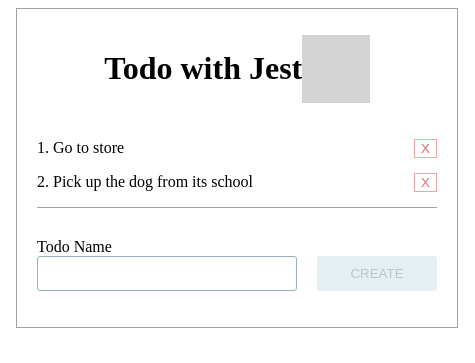
Test: ToDoApp component › Show alert
What coordinates should you click on to do the following:
click the button with class "disabled"
I would click on:
 (377, 273)
Its box is [317,256,437,291].
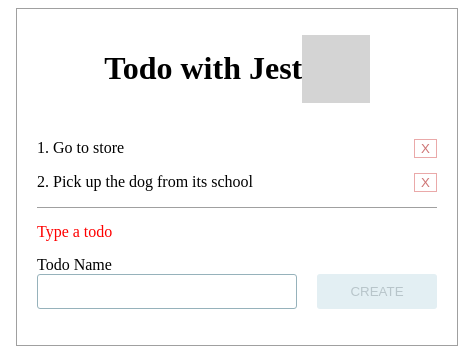
Expected: the text with class "alert" reads "Type a todo", [37,223,112,240]
